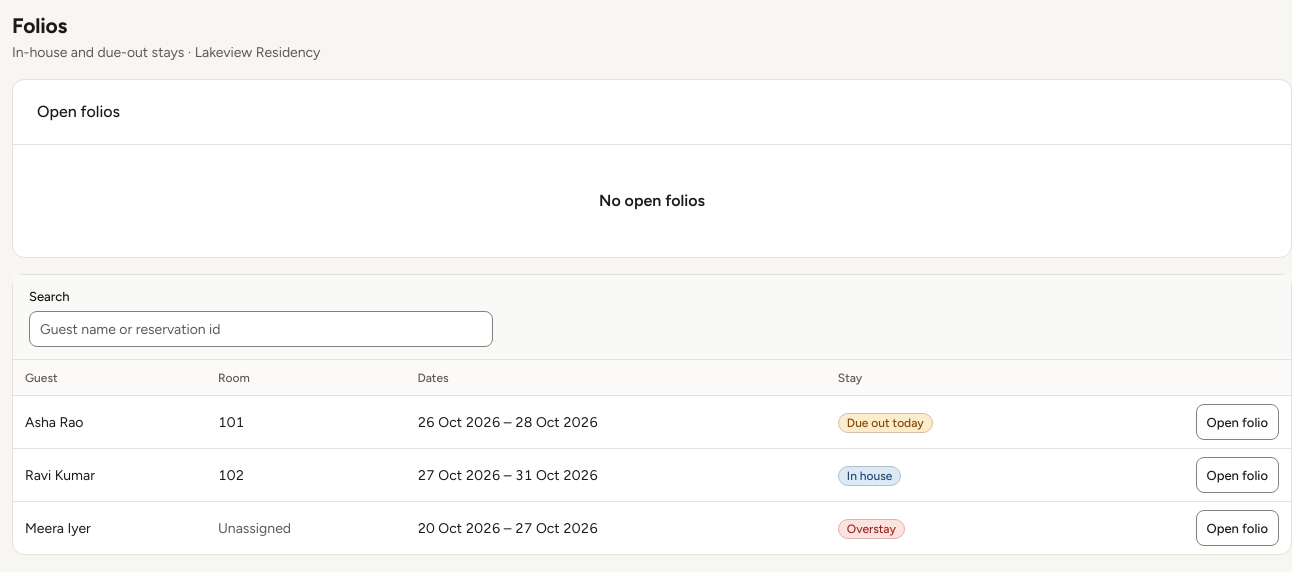
Test: FoliosDirectoryScreen › filters the list by guest name
This screenshot has width=1292, height=572.
Expected: the link "Asha Rao" is shown, [25,414,83,431]
Type "ravi" into the search field labelled "Search" at (261, 330), box [29,312,493,348]
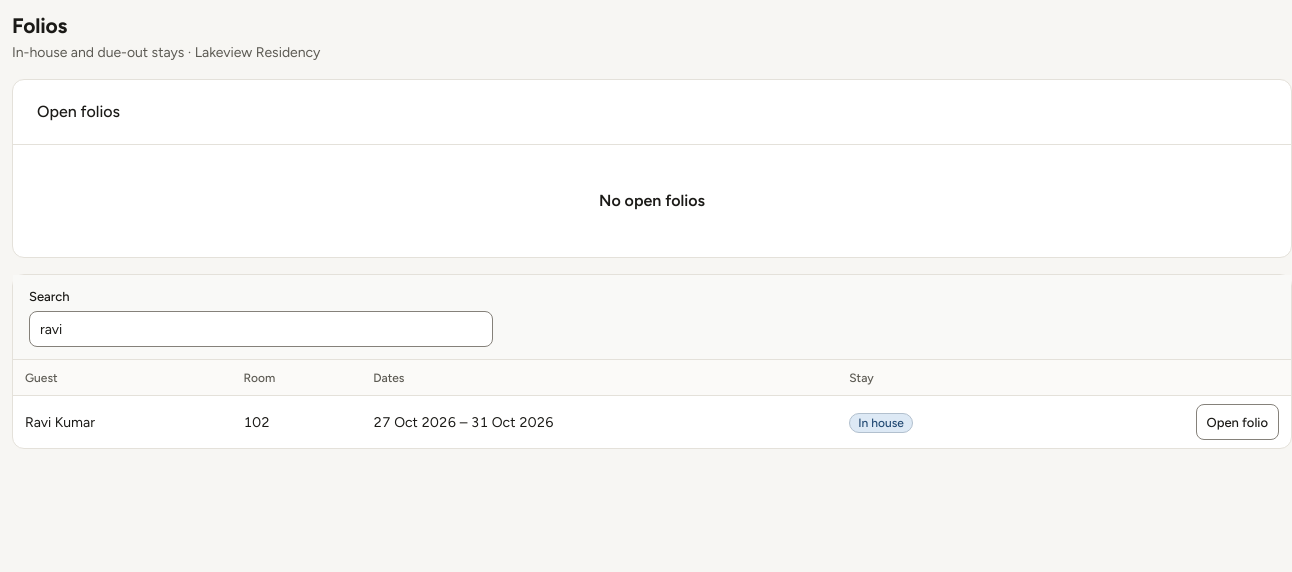
Expected: the link "Ravi Kumar" is shown, [25,414,95,431]
Expected: the link "Asha Rao" is gone
